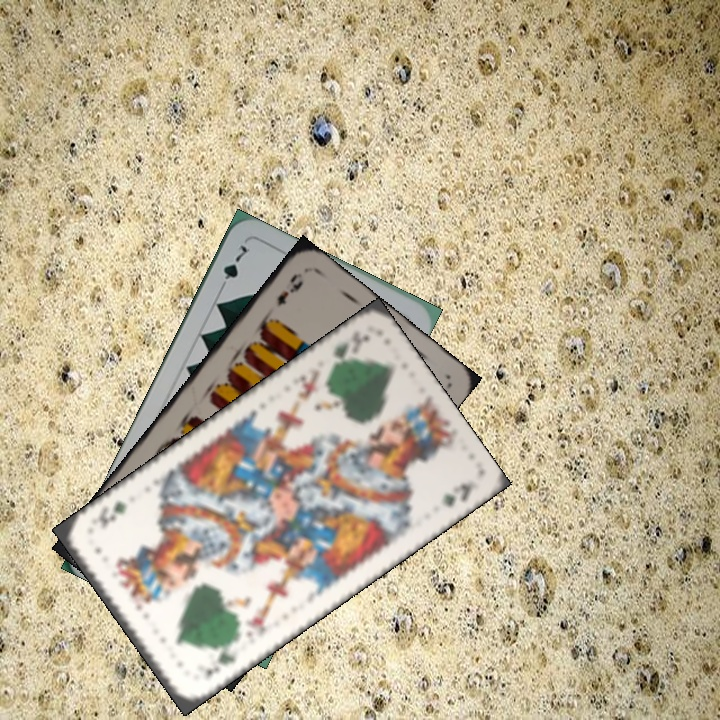E9: (272, 268, 306, 308)
G7: (215, 241, 253, 294)
GK: (325, 330, 372, 373), (201, 639, 241, 679)
